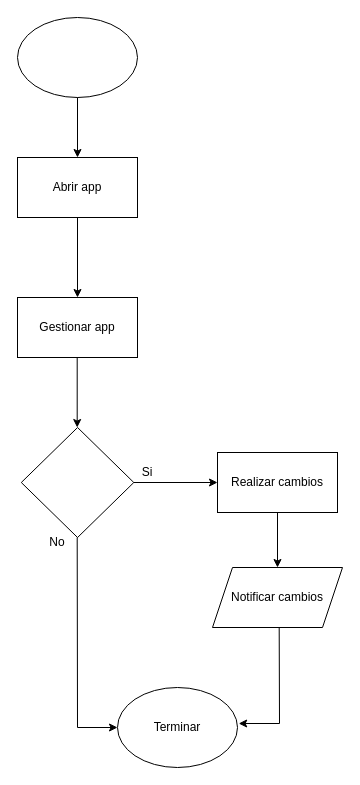
Some shapes in this 360 by 785 pixel diagram are drawn without their labels. Each missing label, with the box of its shape:
Inicio: (16, 16, 138, 98)
¿Desea cambiar algo de la app?: (20, 426, 134, 538)
